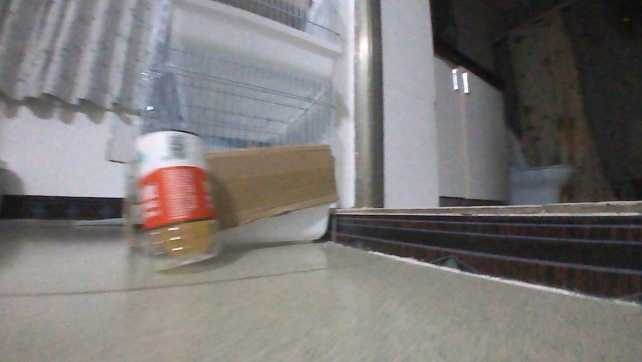bottle: (129, 120, 223, 274)
door_sill: (330, 195, 641, 308)
toilet: (504, 125, 576, 204)
